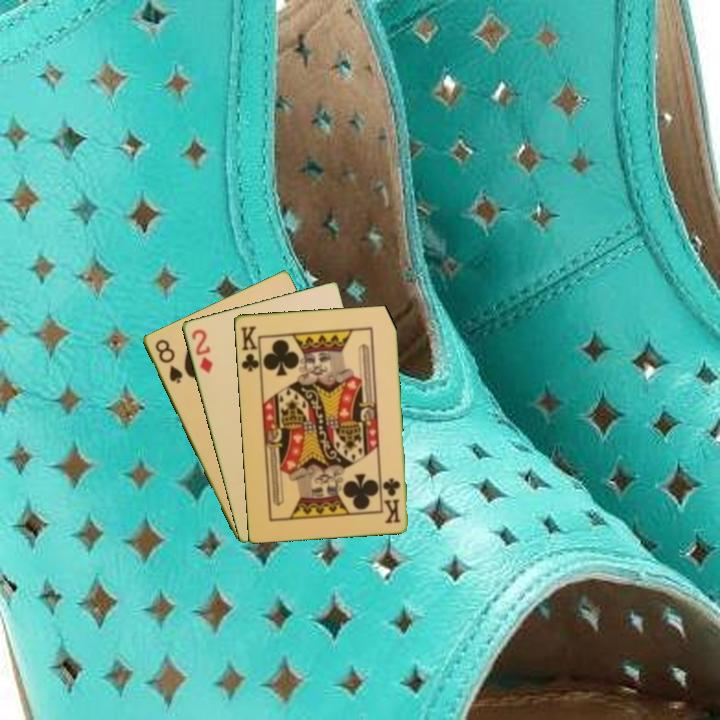2d: (188, 325, 215, 376)
8s: (151, 335, 185, 386)
Kc: (237, 322, 263, 376), (380, 474, 403, 526)
